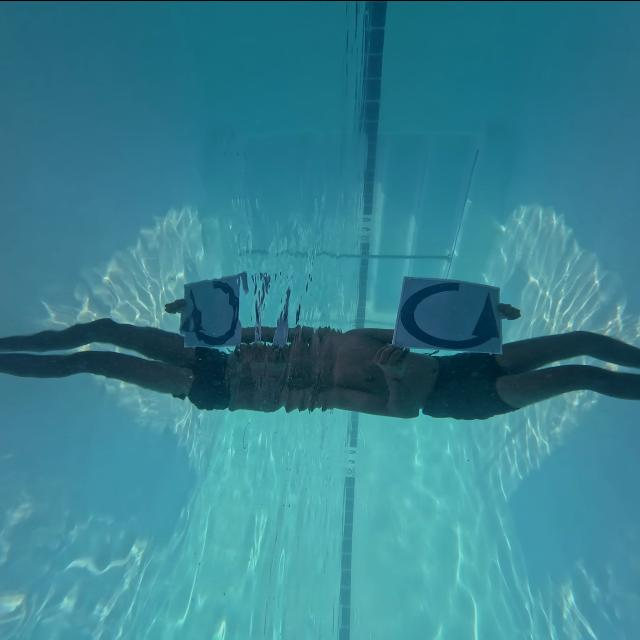blue_side: (392, 281, 506, 347)
